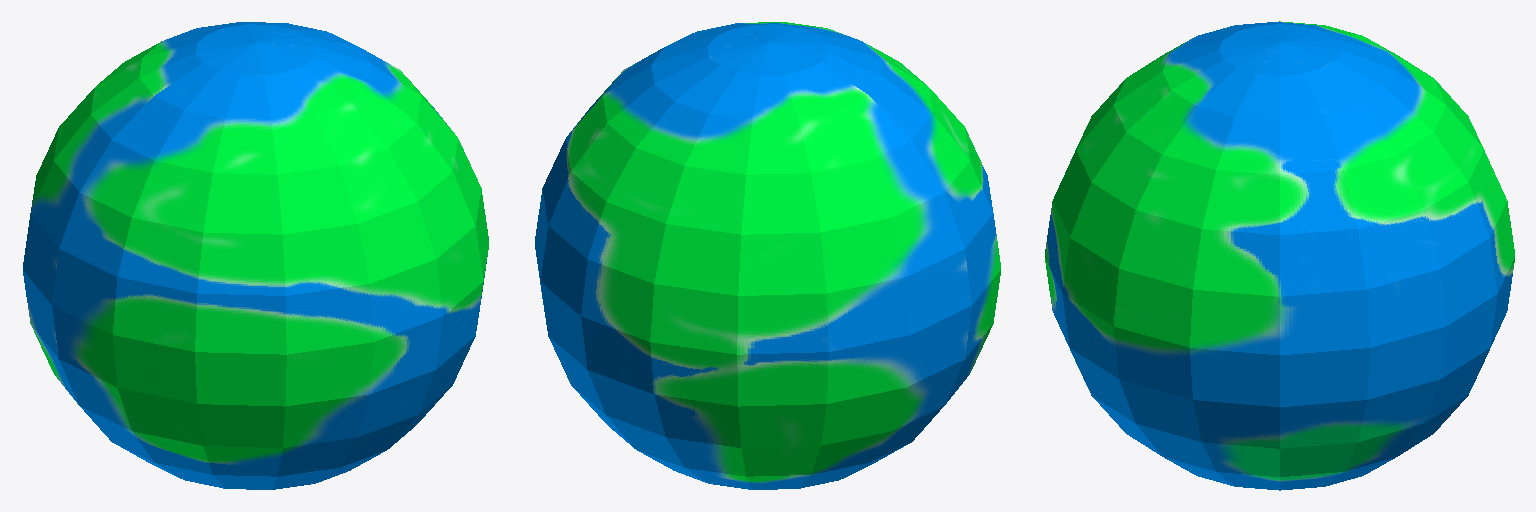
3 renders of one model, left to right at view 1: azimuth 30°, elevation 25°; view 2: azimuth 150°, elevation 25°; view 3: azimuth 270°, elevation 25°, orthographic.
Parts seen in each view (by area): view 1: 球; view 2: 球; view 3: 球.
Boxes of the visible parts, <box> form: 球: <box>23,22,488,489</box>; 球: <box>535,22,1000,489</box>; 球: <box>1045,21,1514,490</box>.
Size of the model in its own units: 2 by 2 by 2.
Materials: 1 (1 with a texture image).